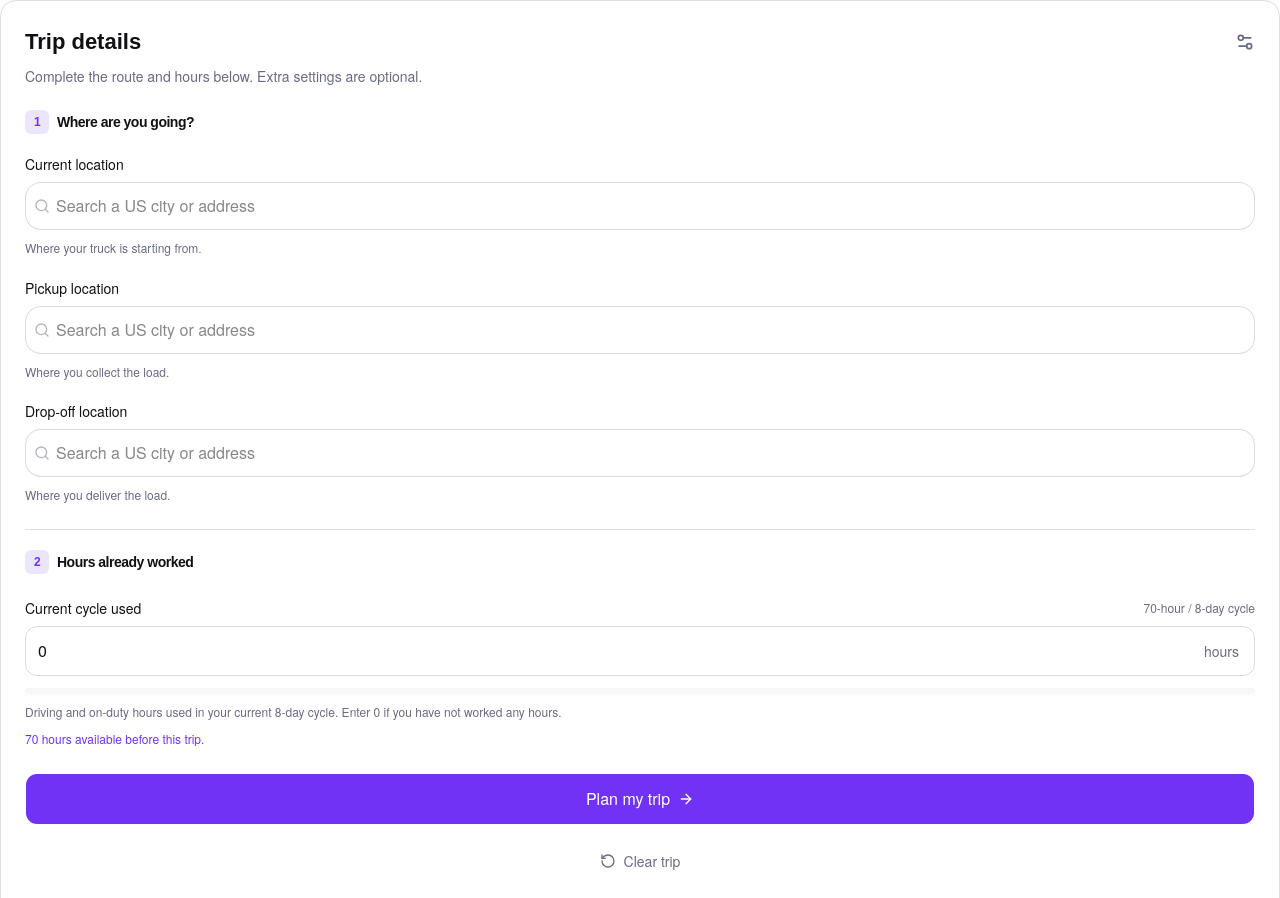
Test: lets users type directly into an invalid location field and select a suggestion without submitting
This screenshot has width=1280, height=898.
Click the button "Plan my trip" at (640, 798), box [25, 772, 1255, 824]
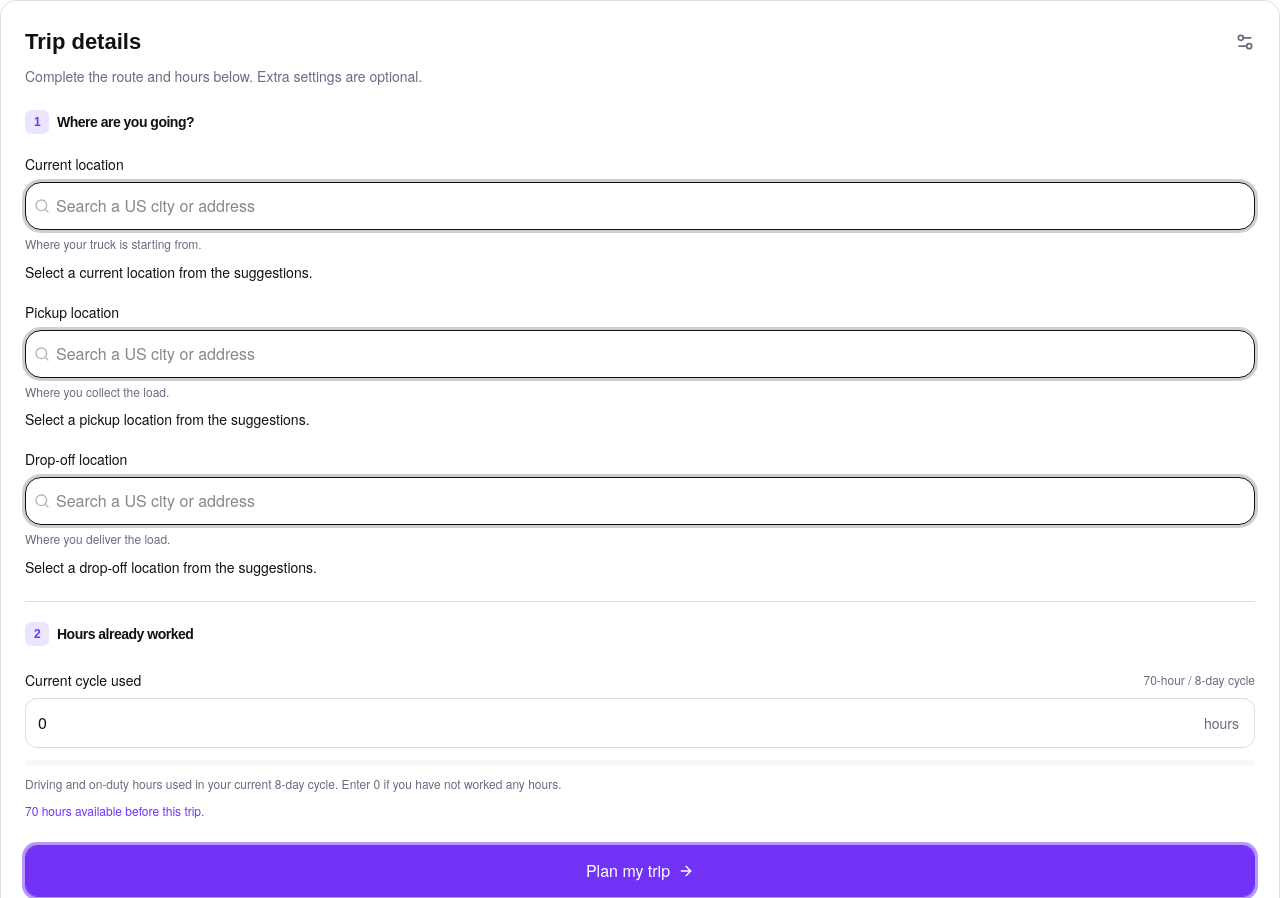
Type "New York" into the dropdown labelled "Current location" at (652, 206), box [50, 184, 1254, 228]
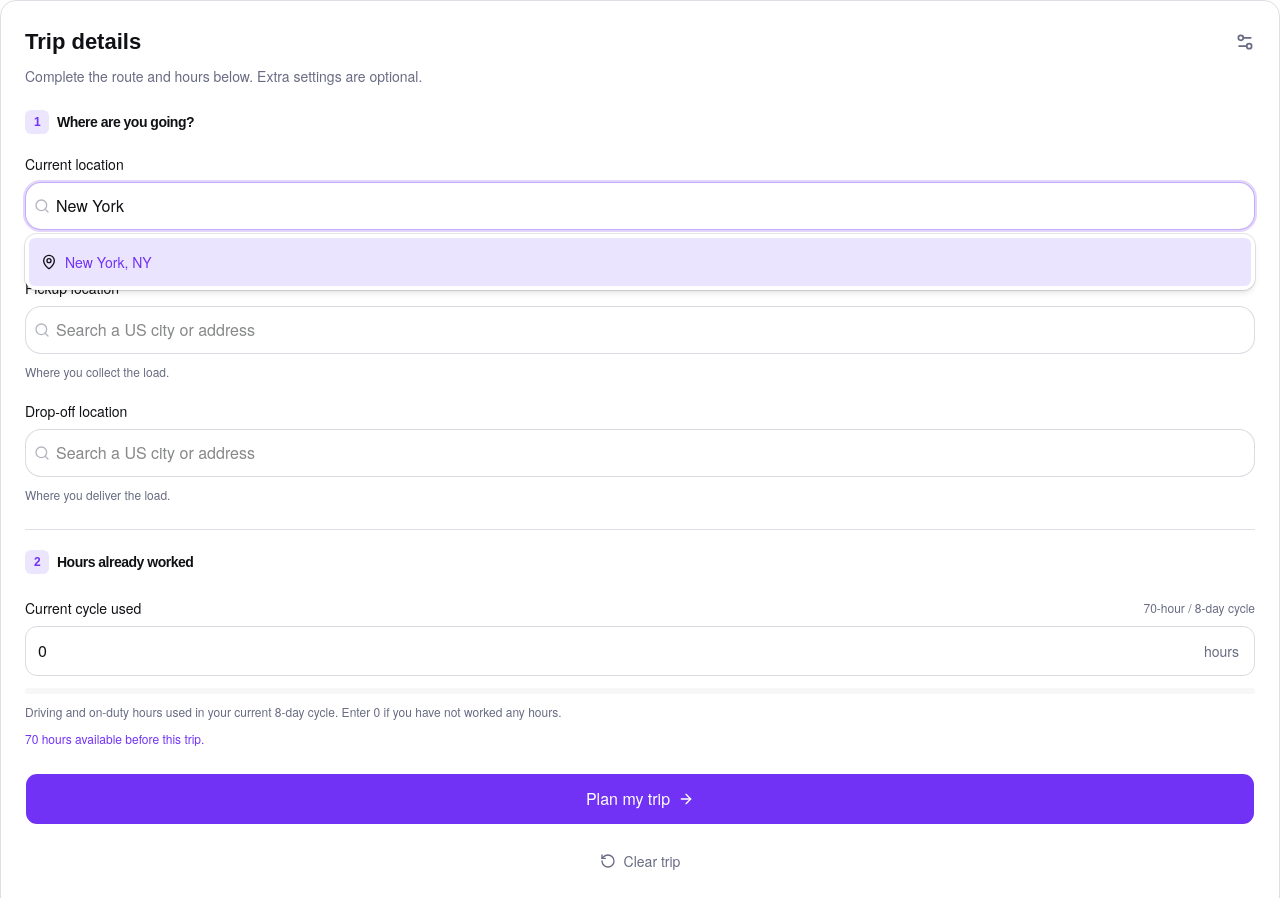
Expected: the dropdown labelled "Current location" is expanded, [50, 184, 1254, 228]
Expected: the option "New York, NY" is shown, [29, 238, 1251, 286]
Press Arrowdown Enter
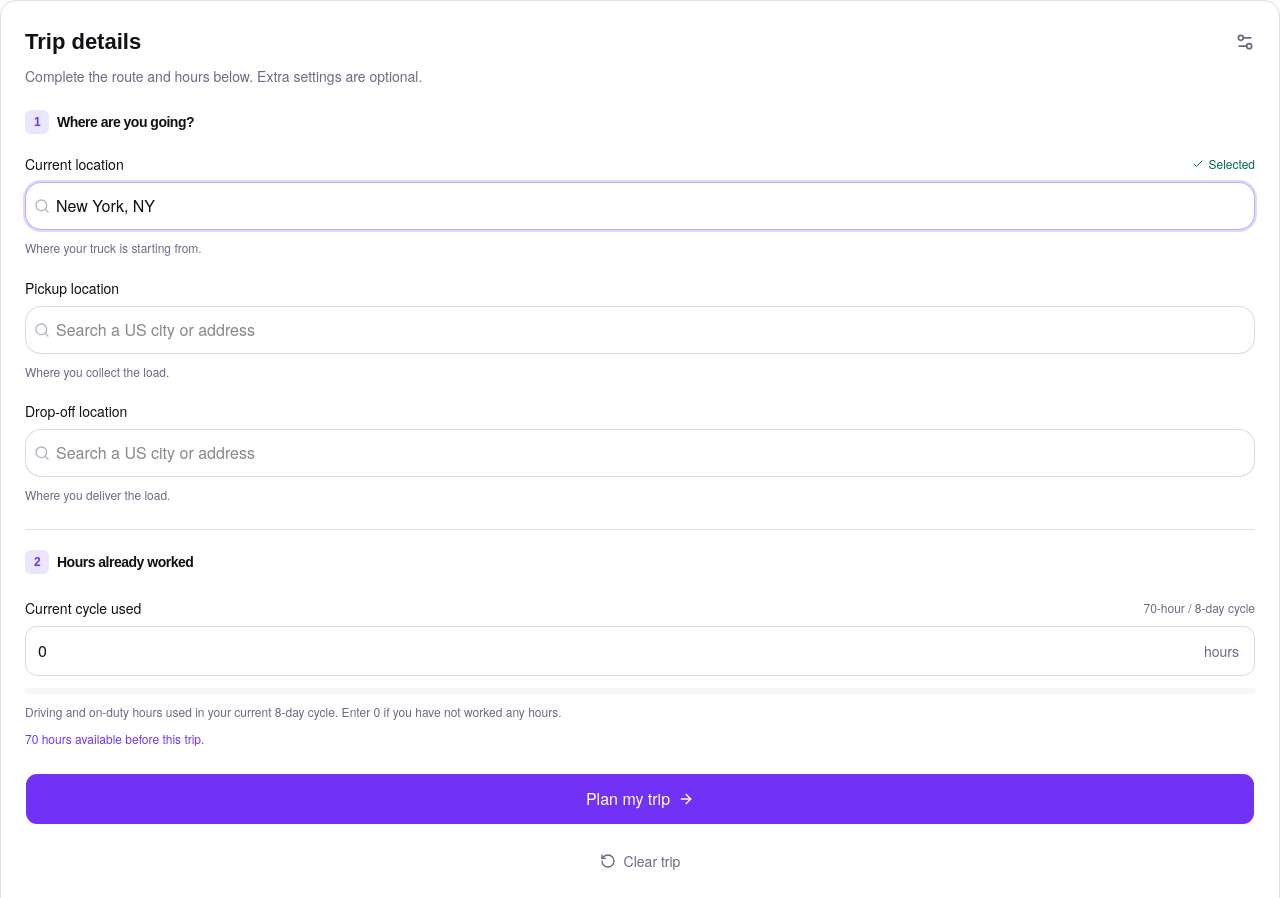
Expected: the dropdown labelled "Current location" holds "New York, NY", [50, 184, 1254, 228]
Expected: the dropdown labelled "Current location" is collapsed, [50, 184, 1254, 228]
Expected: the option is gone
